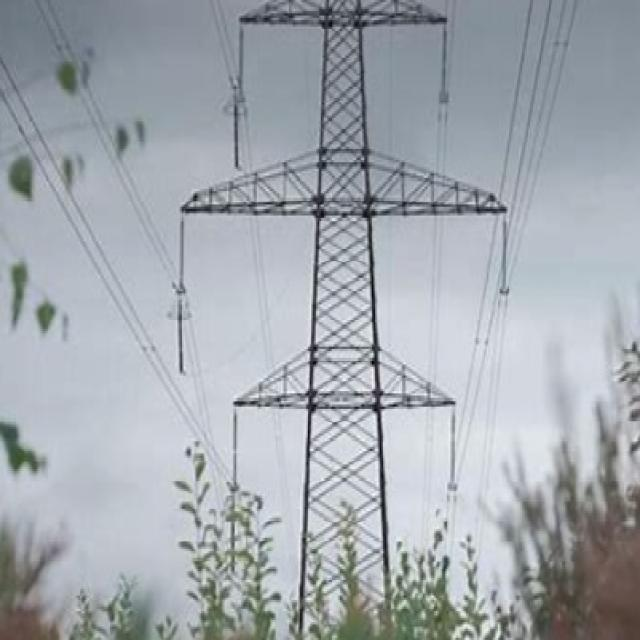utility poles: (168, 350, 531, 632)
